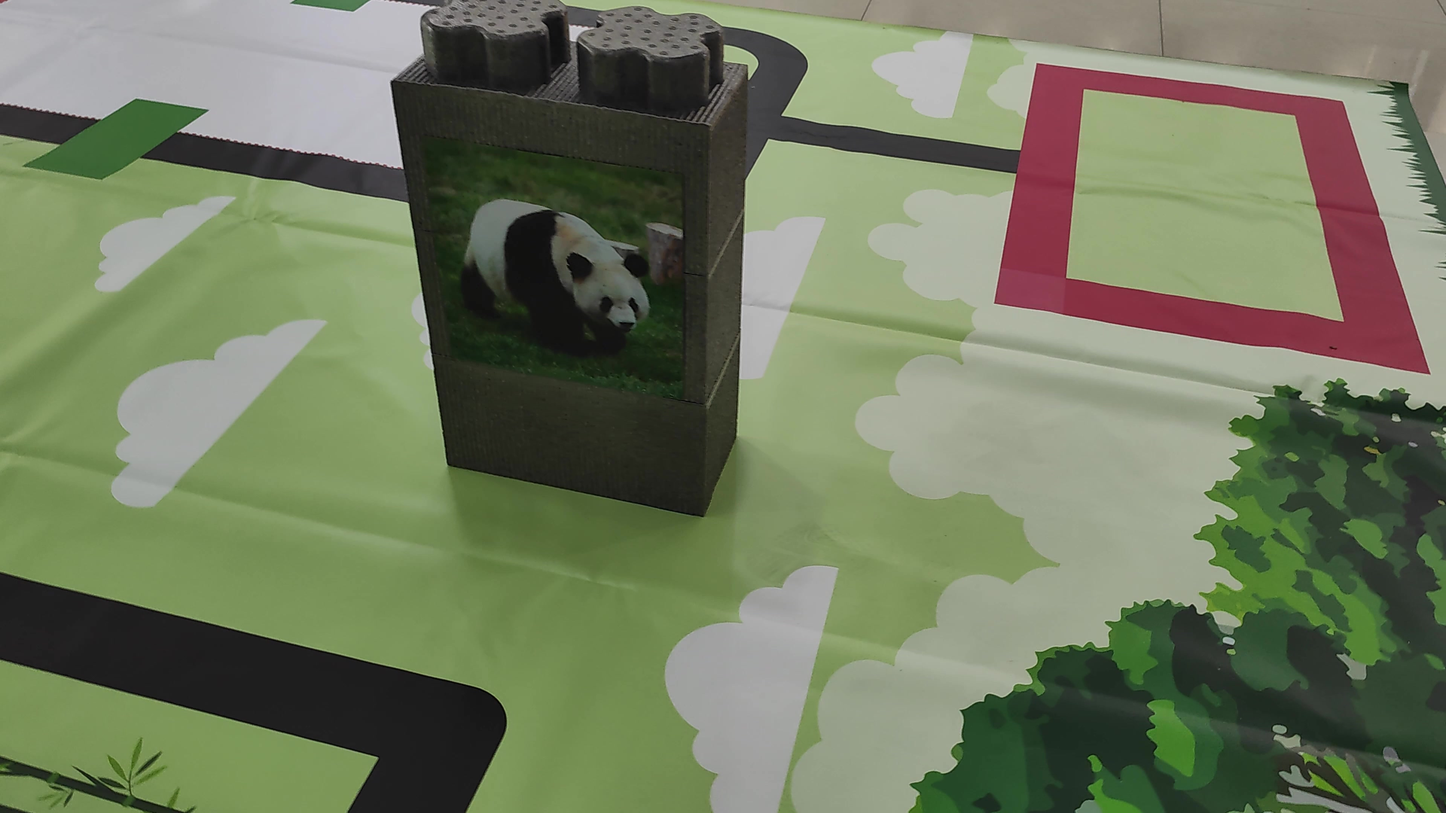panda: (430, 177, 671, 375)
